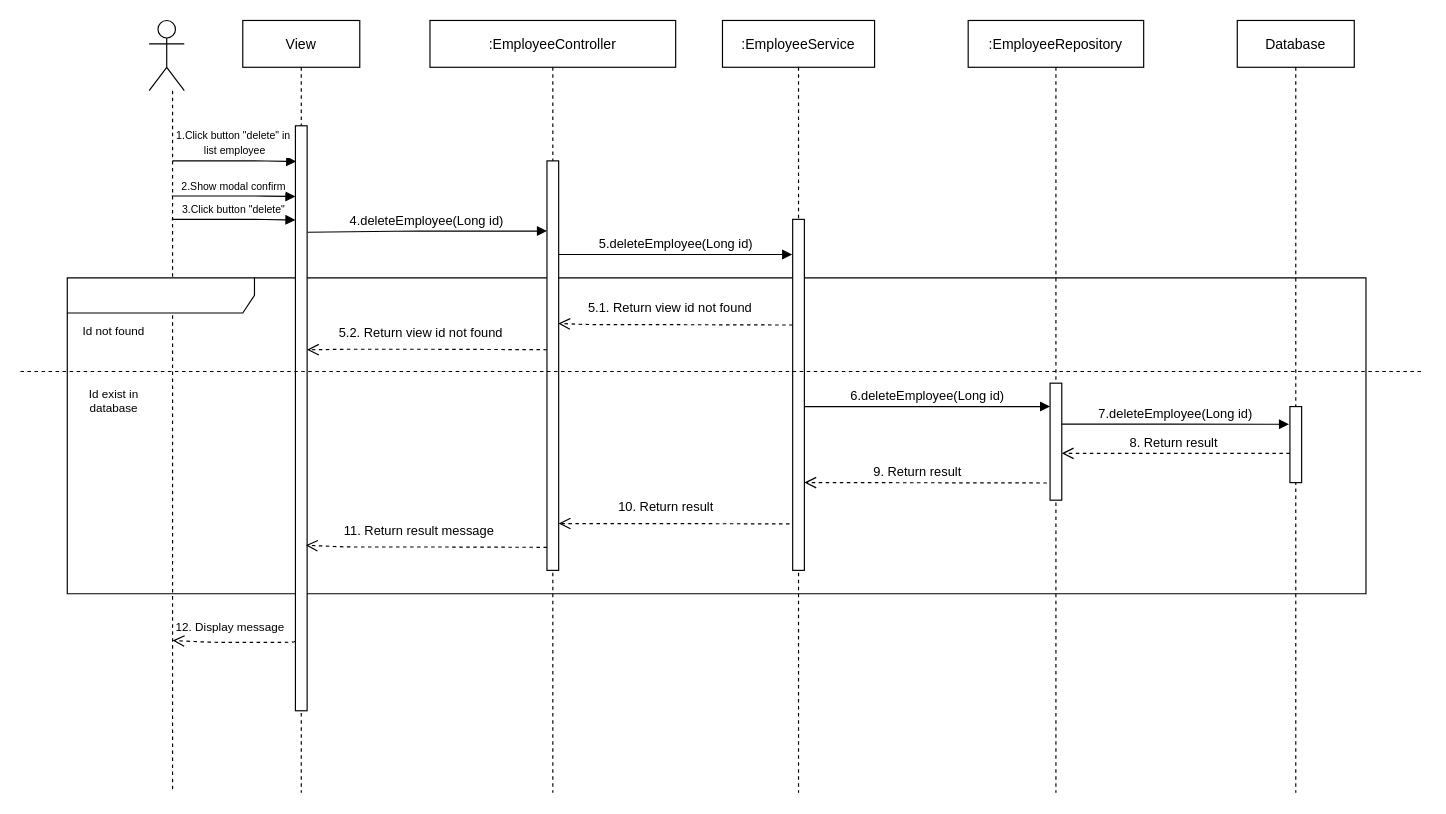
This 1446x814 diagram has some shape labels left out. The box of each missing label's shape, as (x1, y1, x2, y2) in pixels:
Admin: (148, 19, 184, 91)
Alternative id not found: (66, 277, 1366, 594)
